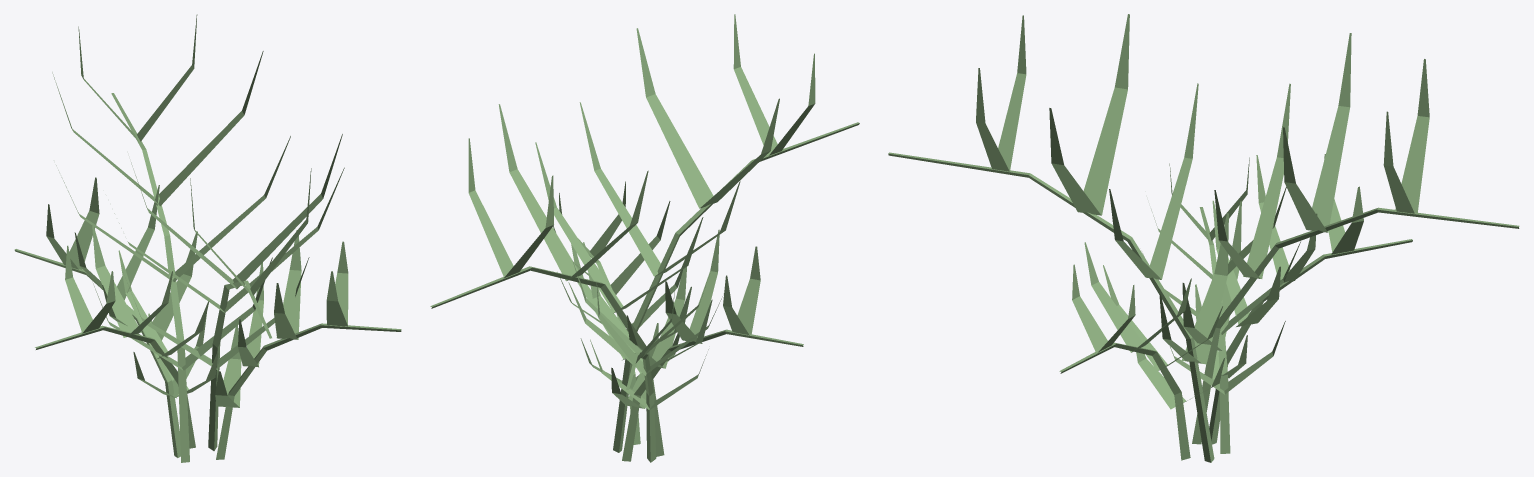
Rendered from bracken-single.glb.
3 views of the same model, side by side, from view 1: azimuth 30°, elevation 25°; view 2: azimuth 150°, elevation 25°; view 3: azimuth 270°, elevation 25° (orthographic). The views are drawn at different scales.
Parts seen in each view (by area): view 1: bracken-single; view 2: bracken-single; view 3: bracken-single.
Part boxes in pixels (x1=…): bracken-single: x1=14, y1=14, x2=401, y2=462; bracken-single: x1=430, y1=14, x2=859, y2=462; bracken-single: x1=888, y1=14, x2=1519, y2=462.
Size of the model in its own units: 0.9047 by 1.04 by 1.53.
